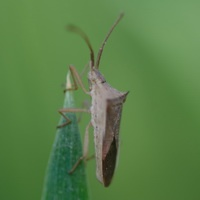insect: (67, 13, 128, 186)
